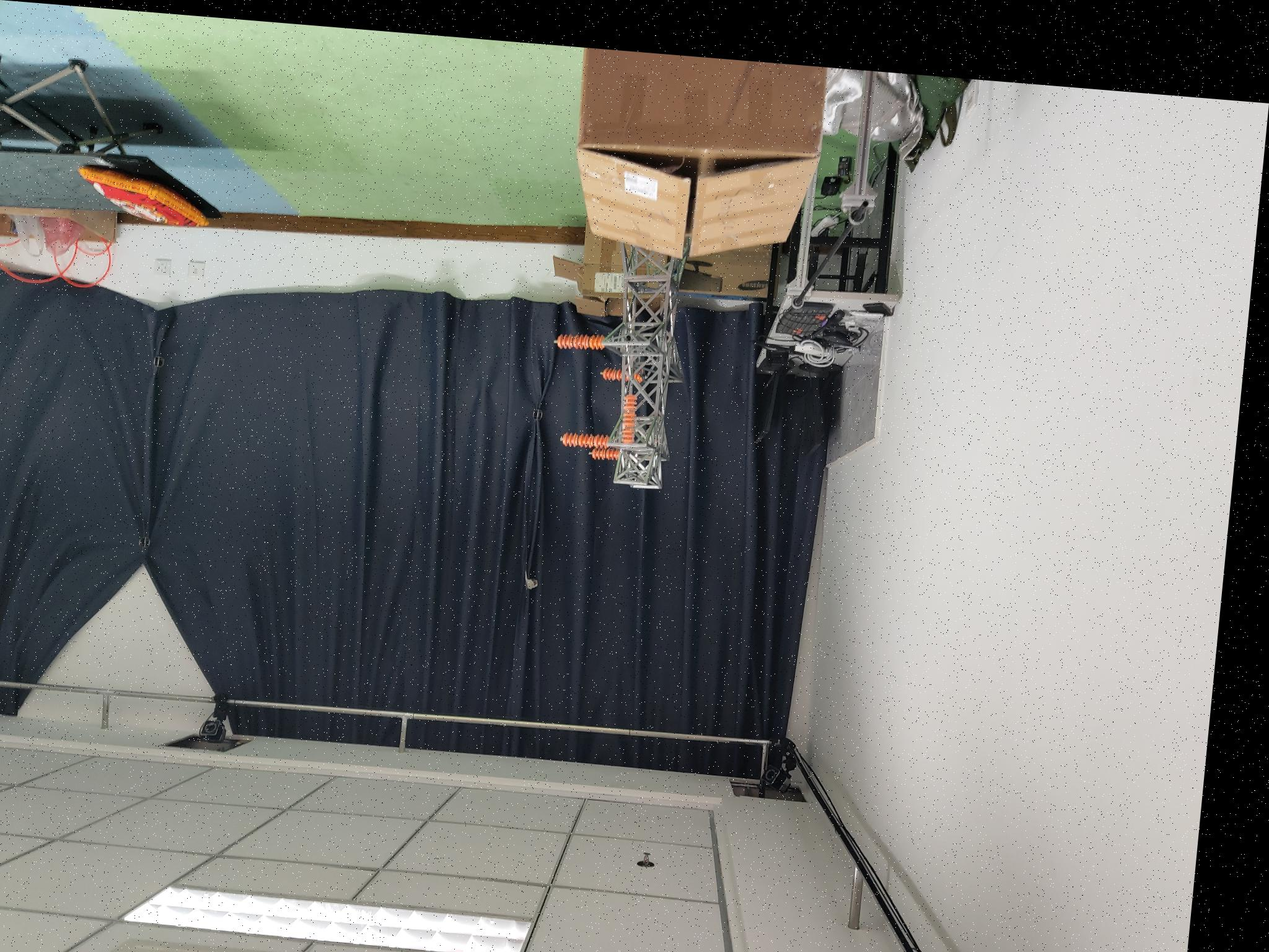tower: (584, 248, 700, 492)
